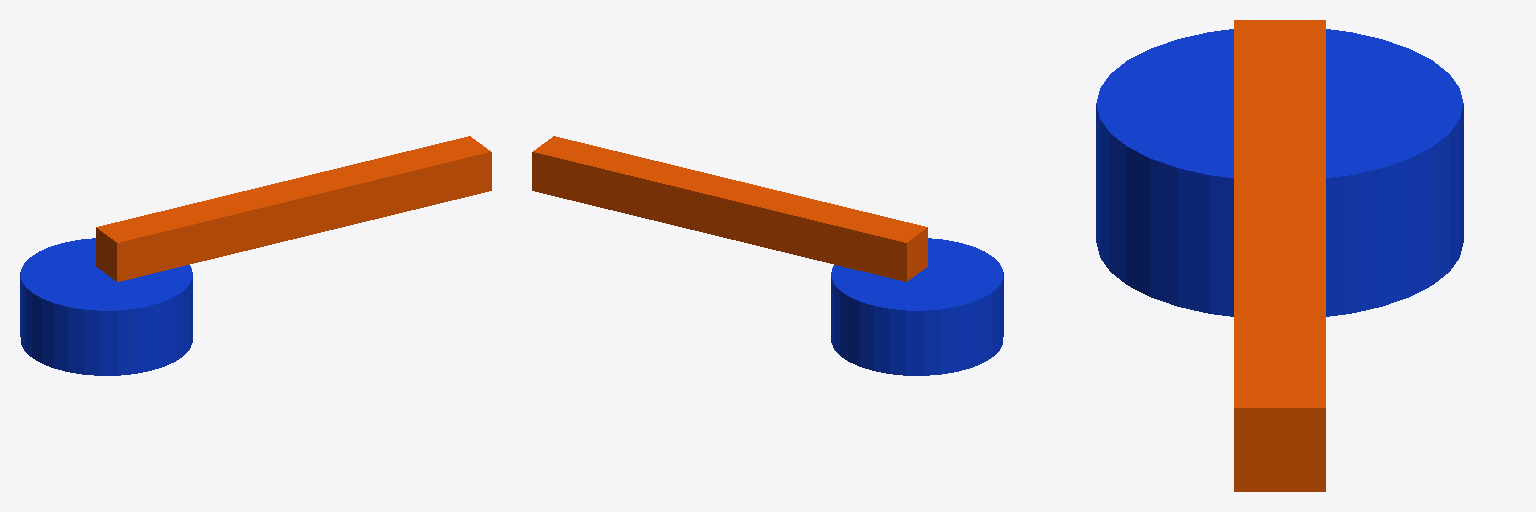
robot.urdf — servo_arm:
<?xml version="1.0"?>
<robot name="servo_arm">
 <link name="world"/>
 <link name="base_link"><inertial><mass value="2"/><inertia ixx="0.02" ixy="0" ixz="0" iyy="0.02" iyz="0" izz="0.02"/></inertial><visual><geometry><cylinder radius="0.12" length="0.10"/></geometry><material name="blue"><color rgba="0.1 0.3 0.9 1"/></material></visual><collision><geometry><cylinder radius="0.12" length="0.10"/></geometry></collision></link>
 <joint name="mount" type="fixed"><parent link="world"/><child link="base_link"/><origin xyz="0 0 0.8"/></joint>
 <link name="rotor"><inertial><origin xyz="0.3 0 0"/><mass value="1"/><inertia ixx="0.0006" ixy="0" ixz="0" iyy="0.0303" iyz="0" izz="0.0303"/></inertial><visual><origin xyz="0.3 0 0"/><geometry><box size="0.6 0.06 0.06"/></geometry><material name="orange"><color rgba="0.95 0.4 0.05 1"/></material></visual><collision><origin xyz="0.3 0 0"/><geometry><box size="0.6 0.06 0.06"/></geometry></collision></link>
 <joint name="lesson25_hinge" type="revolute"><parent link="base_link"/><child link="rotor"/><origin xyz="0 0 0.08"/><axis xyz="0 0 1"/><limit lower="-0.8" upper="0.8" effort="2" velocity="4"/><dynamics damping="0.02" friction="0"/></joint>
 <transmission name="hinge_transmission"><type>transmission_interface/SimpleTransmission</type><joint name="lesson25_hinge"><hardwareInterface>hardware_interface/EffortJointInterface</hardwareInterface></joint><actuator name="virtual_motor"><hardwareInterface>hardware_interface/EffortJointInterface</hardwareInterface><mechanicalReduction>1</mechanicalReduction></actuator></transmission>
 <gazebo reference="base_link"><material>Gazebo/Blue</material></gazebo><gazebo reference="rotor"><material>Gazebo/Orange</material></gazebo>
 <gazebo><plugin name="ros_control" filename="libgazebo_ros_control.so"><robotNamespace>/lesson25</robotNamespace><robotParam>/lesson25/robot_description</robotParam><robotSimType>gazebo_ros_control/DefaultRobotHWSim</robotSimType><controlPeriod>0.002</controlPeriod></plugin></gazebo>
</robot>

--- Facts derived from the render (not from the file) ---
Views: 3 orthographic renders of the robot side by side, from view 1: azimuth 30°, elevation 25°; view 2: azimuth 150°, elevation 25°; view 3: azimuth 270°, elevation 25°.
Robot: servo_arm — 3 links, 2 joints (1 revolute, 1 fixed); root link world; default pose: every joint at zero.
Links seen in each view (by area): view 1: rotor, base_link; view 2: rotor, base_link; view 3: base_link, rotor.
Link boxes in pixels (<box>): rotor: <box>96,136,491,281</box>; base_link: <box>20,238,192,375</box>; rotor: <box>532,136,927,281</box>; base_link: <box>831,238,1003,375</box>; base_link: <box>1096,29,1463,316</box>; rotor: <box>1234,20,1325,491</box>.
Bounding box of the posed robot: 0.72 × 0.24 × 0.16 m (x, y, z).
Geometry: primitives only (box / cylinder / sphere), no mesh files.
